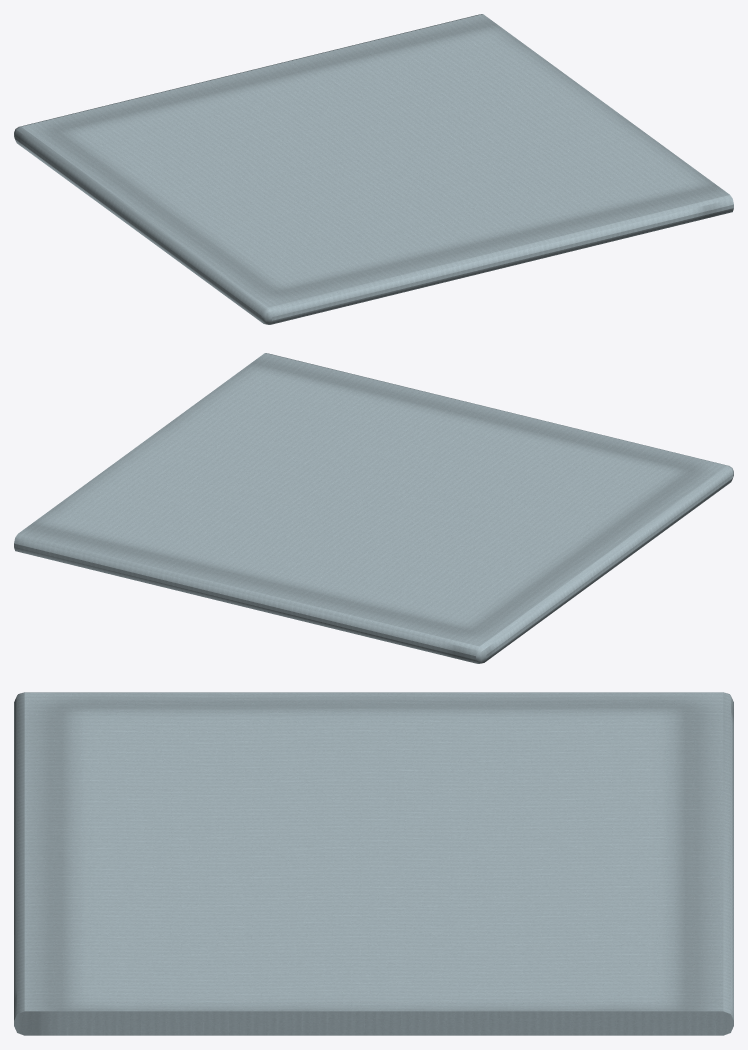
Rendered from 19-rounded-bottom-tin-rim-1.fbx.
3 views of the same model, one above another, from view 1: azimuth 30°, elevation 25°; view 2: azimuth 150°, elevation 25°; view 3: azimuth 270°, elevation 25° (orthographic). The views are drawn at different scales.
Parts seen in each view (by area): view 1: rounded-bottom-tin-rim-1; view 2: rounded-bottom-tin-rim-1; view 3: rounded-bottom-tin-rim-1.
Boxes of the visible parts, box(x1,y1,x2,y2) form: rounded-bottom-tin-rim-1: box(14, 14, 733, 324); rounded-bottom-tin-rim-1: box(14, 353, 733, 663); rounded-bottom-tin-rim-1: box(14, 692, 733, 1035).
Bounding box in the file's own units: 8500 × 300 × 8000.
Materials: 1 (1 with a texture image).
